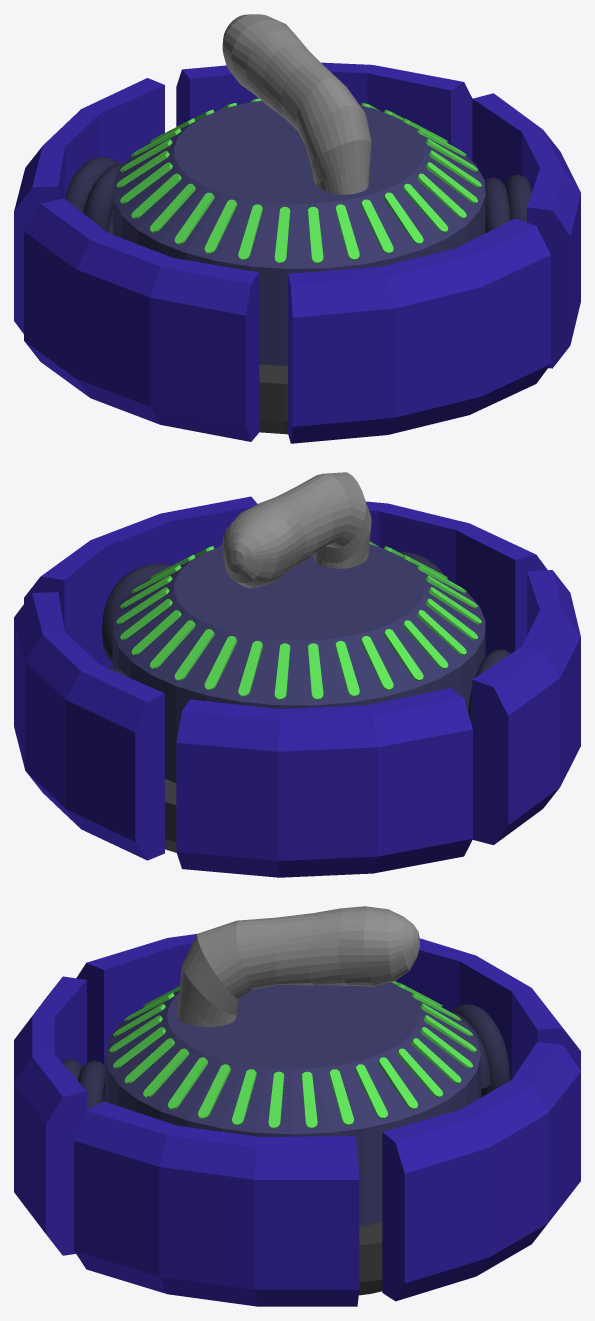
File: curlingbomb.fbx
3 views of the same model, one above another, from view 1: azimuth 30°, elevation 25°; view 2: azimuth 150°, elevation 25°; view 3: azimuth 270°, elevation 25° (orthographic).
Visible parts, largest first — view 1: 立方体, 円柱, 球, 円柱.002, ベジエカーブ, 円柱.001; view 2: 立方体, 円柱, 球, 円柱.002, ベジエカーブ, 円柱.001; view 3: 立方体, 円柱, 球, 円柱.002, ベジエカーブ, 円柱.001.
Part boxes in pixels (bbox=[...]): 立方体: bbox=[14, 62, 580, 443]; 円柱: bbox=[112, 100, 485, 366]; 球: bbox=[222, 14, 371, 194]; 円柱.002: bbox=[116, 98, 481, 263]; ベジエカーブ: bbox=[65, 157, 531, 234]; 円柱.001: bbox=[259, 364, 287, 434]; 立方体: bbox=[14, 496, 580, 877]; 円柱: bbox=[112, 544, 485, 783]; 球: bbox=[222, 472, 371, 588]; 円柱.002: bbox=[116, 541, 481, 699]; ベジエカーブ: bbox=[102, 551, 510, 725]; 円柱.001: bbox=[165, 778, 176, 852]; 立方体: bbox=[14, 934, 580, 1306]; 円柱: bbox=[105, 982, 480, 1226]; 球: bbox=[177, 906, 419, 1026]; 円柱.002: bbox=[109, 981, 476, 1128]; ベジエカーブ: bbox=[62, 1004, 512, 1109]; 円柱.001: bbox=[359, 1222, 382, 1295].
Size of the model in its own units: 299 by 178 by 302.
